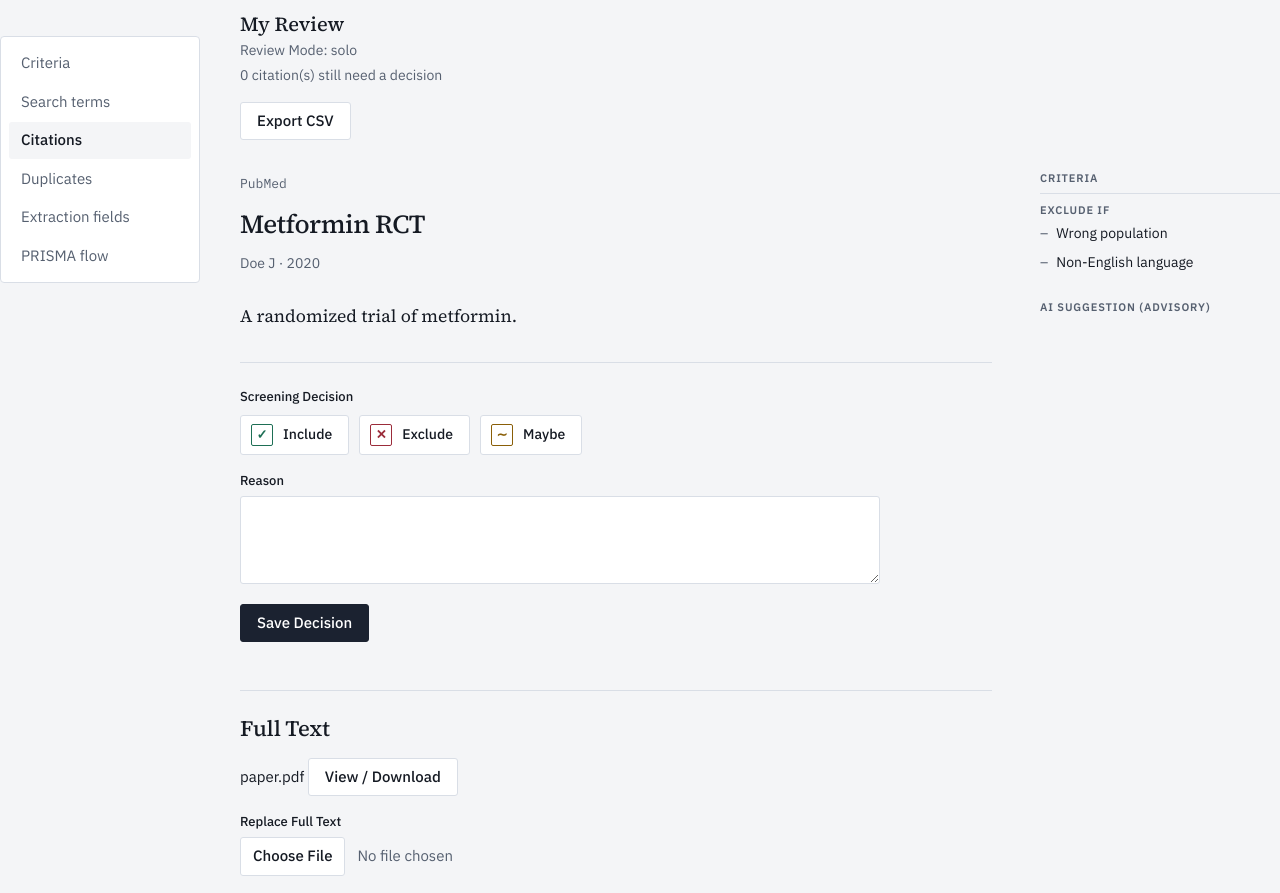
CitationScreeningPage › shows an error when fetching the Full Text file fails
The image size is (1280, 893).
Expected: the text "paper.pdf" is shown, [240, 767, 304, 786]
Click the button "View / Download".
click(383, 777)  # box [308, 758, 458, 796]
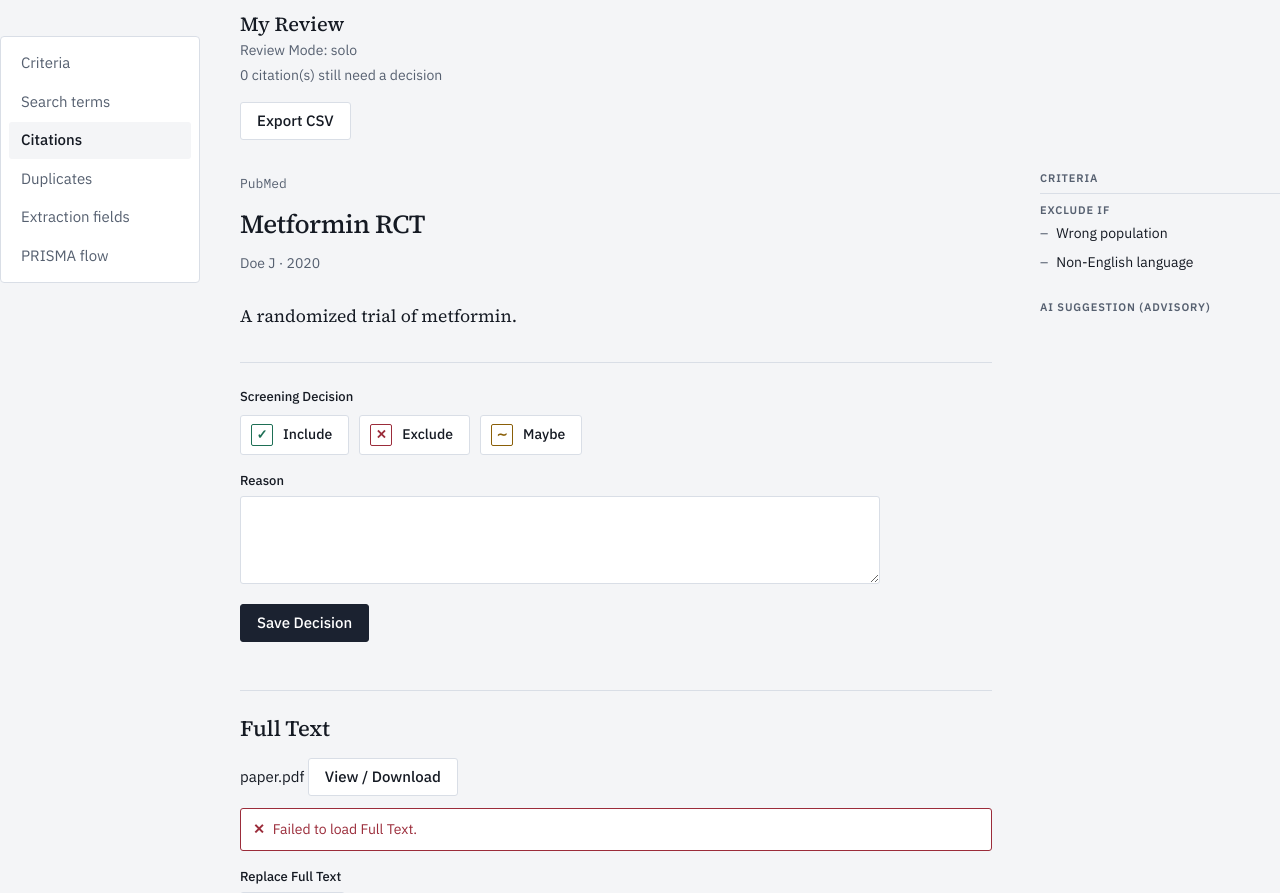
Expected: the text "Failed to load Full Text." is shown, [240, 808, 992, 851]
